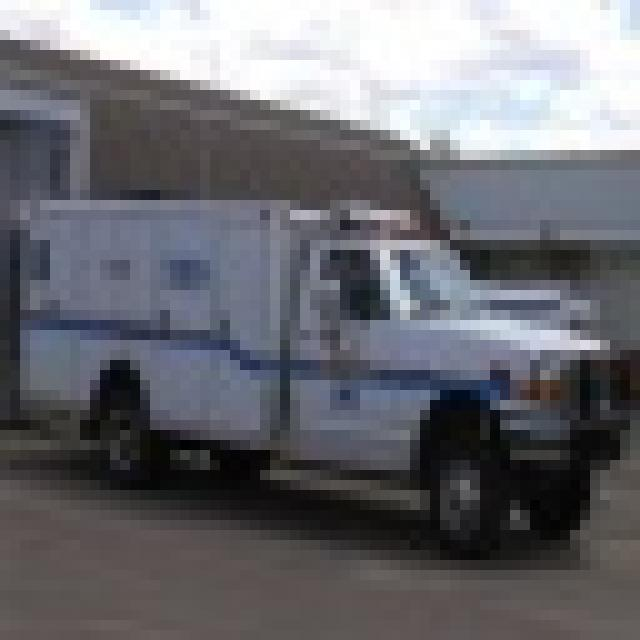Ambulance: (10, 190, 620, 550)
